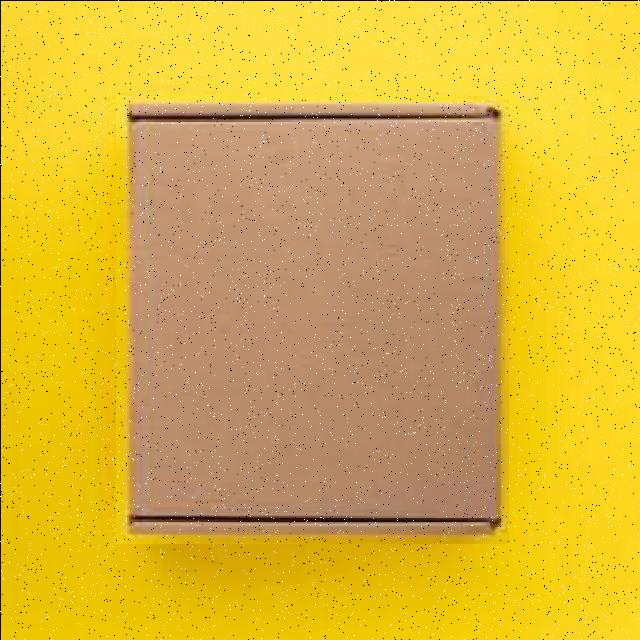normal: (115, 95, 508, 543)
